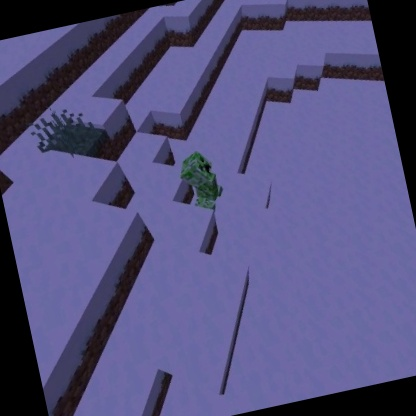creeper: (173, 145, 230, 217)
